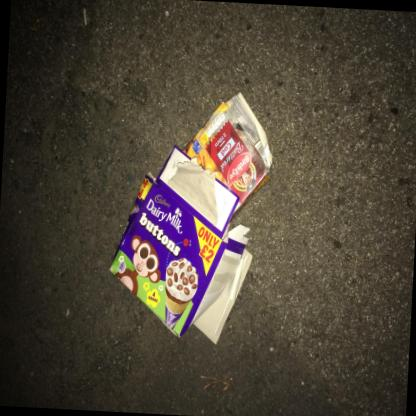Paper: (109, 143, 252, 343), (181, 90, 272, 218)
